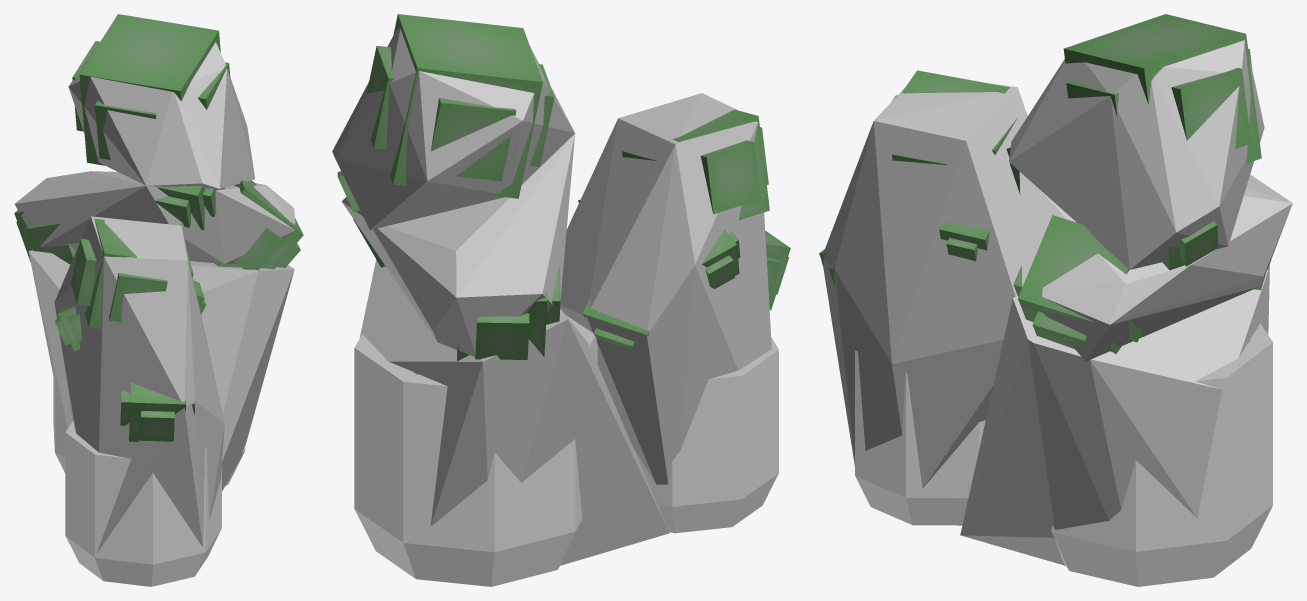
File: SM_Flower_Pot_03.fbx
The picture shows the model from 3 angles, left to right: view 1: azimuth 30°, elevation 25°; view 2: azimuth 150°, elevation 25°; view 3: azimuth 270°, elevation 25°; orthographic projection. The views are drawn at different scales.
Parts seen in each view (by area): view 1: SM_Flower_Pot_03_ConvexHulls, SM_Flower_Pot_03; view 2: SM_Flower_Pot_03_ConvexHulls, SM_Flower_Pot_03; view 3: SM_Flower_Pot_03_ConvexHulls, SM_Flower_Pot_03.
Part boxes in pixels (bbox=[...]): SM_Flower_Pot_03_ConvexHulls: bbox=[14, 41, 295, 553]; SM_Flower_Pot_03: bbox=[14, 14, 303, 586]; SM_Flower_Pot_03_ConvexHulls: bbox=[332, 28, 771, 565]; SM_Flower_Pot_03: bbox=[337, 14, 790, 586]; SM_Flower_Pot_03_ConvexHulls: bbox=[823, 40, 1292, 565]; SM_Flower_Pot_03: bbox=[819, 14, 1272, 586].
Size of the model in its own units: 279 by 332 by 413.
Materials: 2 (1 with a texture image).
